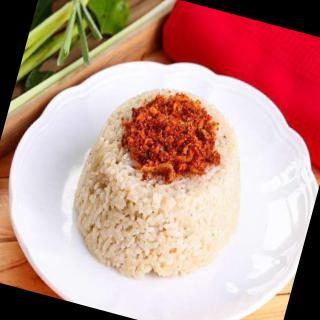Nasi: (56, 69, 270, 302)
